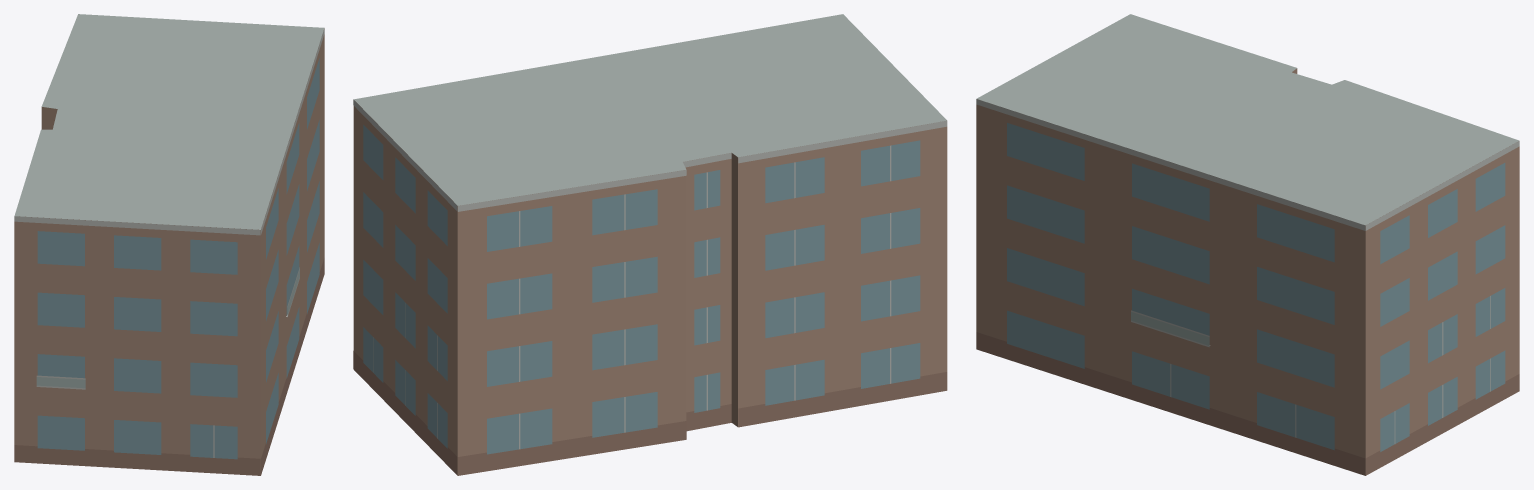
Rendered from survey-upis-32667472.glb.
3 views of the same model, side by side, from view 1: azimuth 30°, elevation 25°; view 2: azimuth 150°, elevation 25°; view 3: azimuth 270°, elevation 25° (orthographic). The views are drawn at different scales.
Parts seen in each view (by area): view 1: survey-upis-32667472.tmp; view 2: survey-upis-32667472.tmp; view 3: survey-upis-32667472.tmp.
Part boxes in pixels (left/top/right/bottom): survey-upis-32667472.tmp: left=14, top=14, right=324, bottom=475; survey-upis-32667472.tmp: left=353, top=14, right=947, bottom=475; survey-upis-32667472.tmp: left=976, top=14, right=1519, bottom=475.
Bounding box in the file's own units: 19.71 × 10.88 × 21.4.
